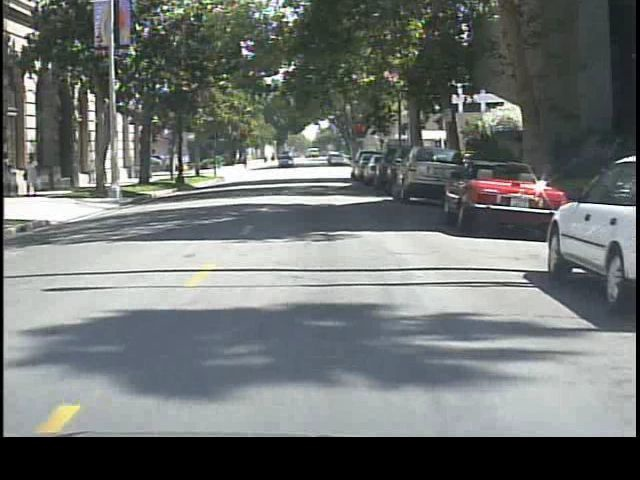person: (19, 152, 46, 196), (2, 148, 22, 198)
